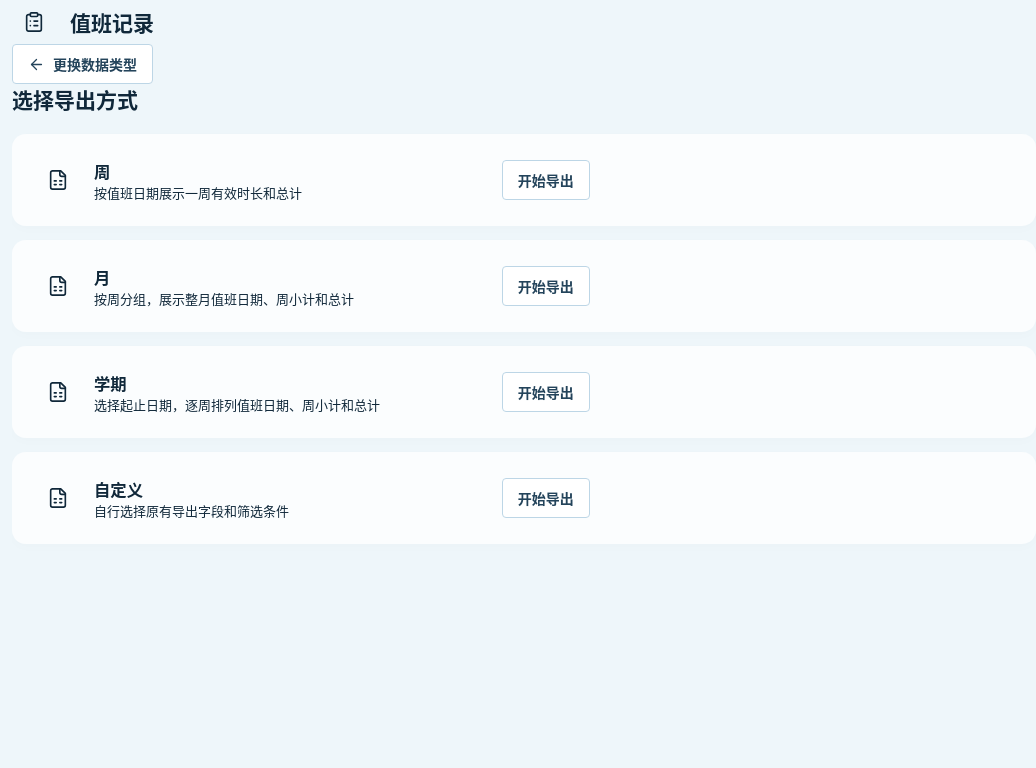
Test: attendance template workspace › clears obsolete results after a server revision conflict
Click the button in the row of "按值班日期展示一周有效时长和总计" at [546, 180], box [502,160,590,200]
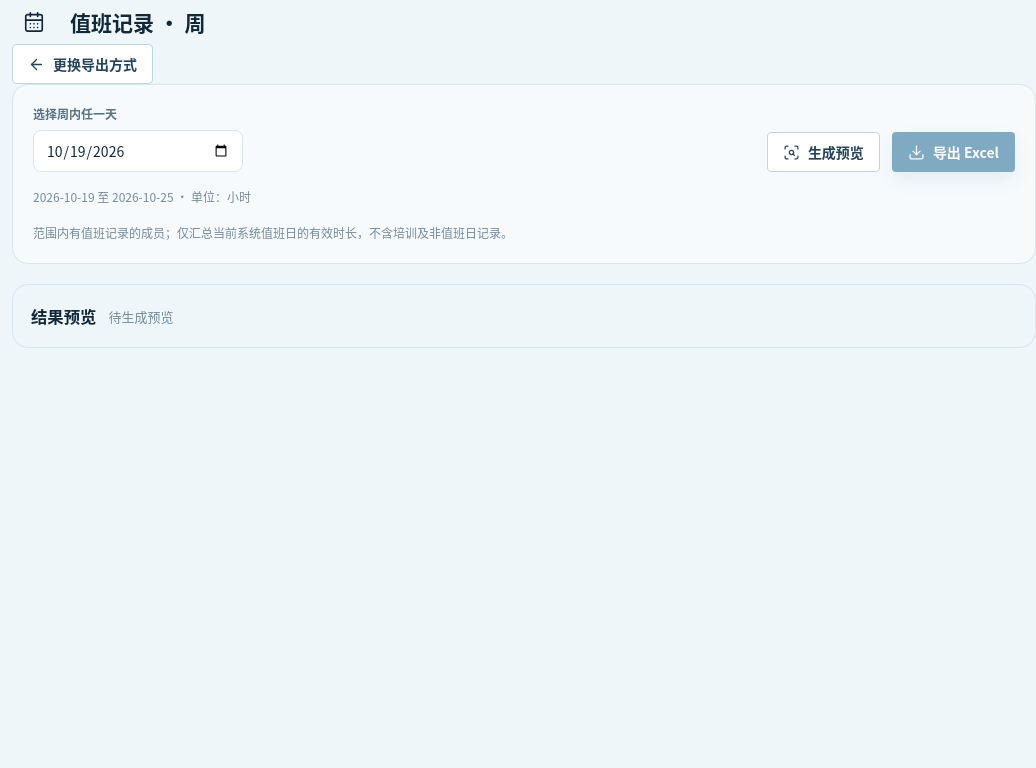
Submit the form, box [12,84,1035,264]
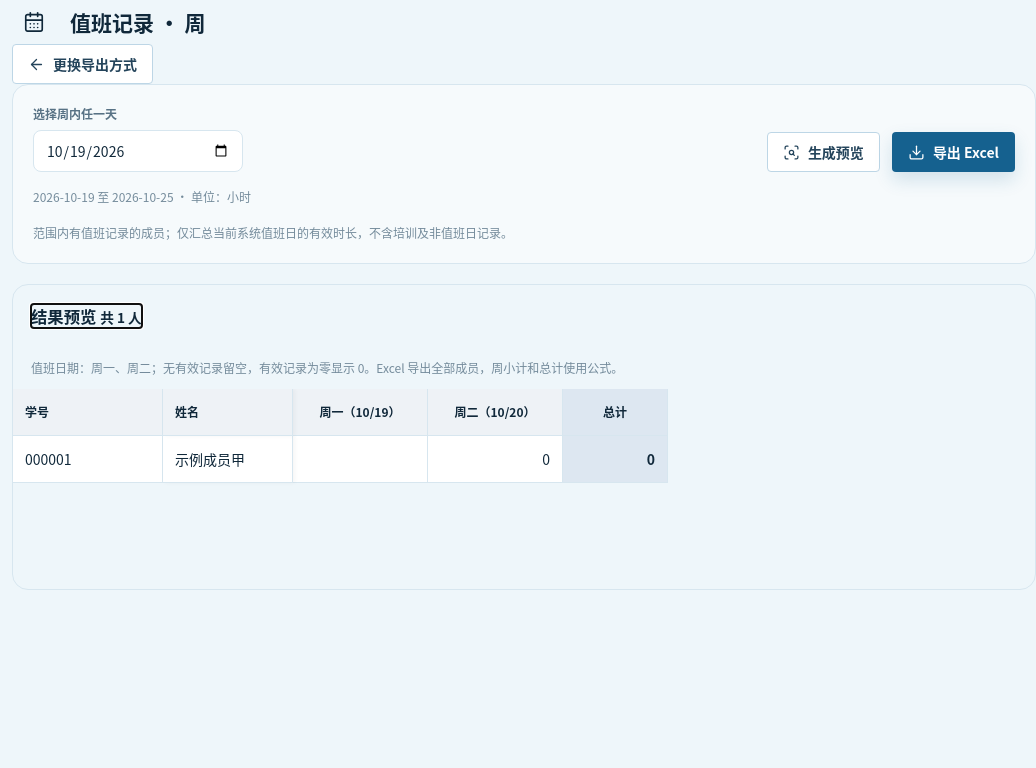
Click the button "导出 Excel" at [953, 152], box [892,132,1015,172]
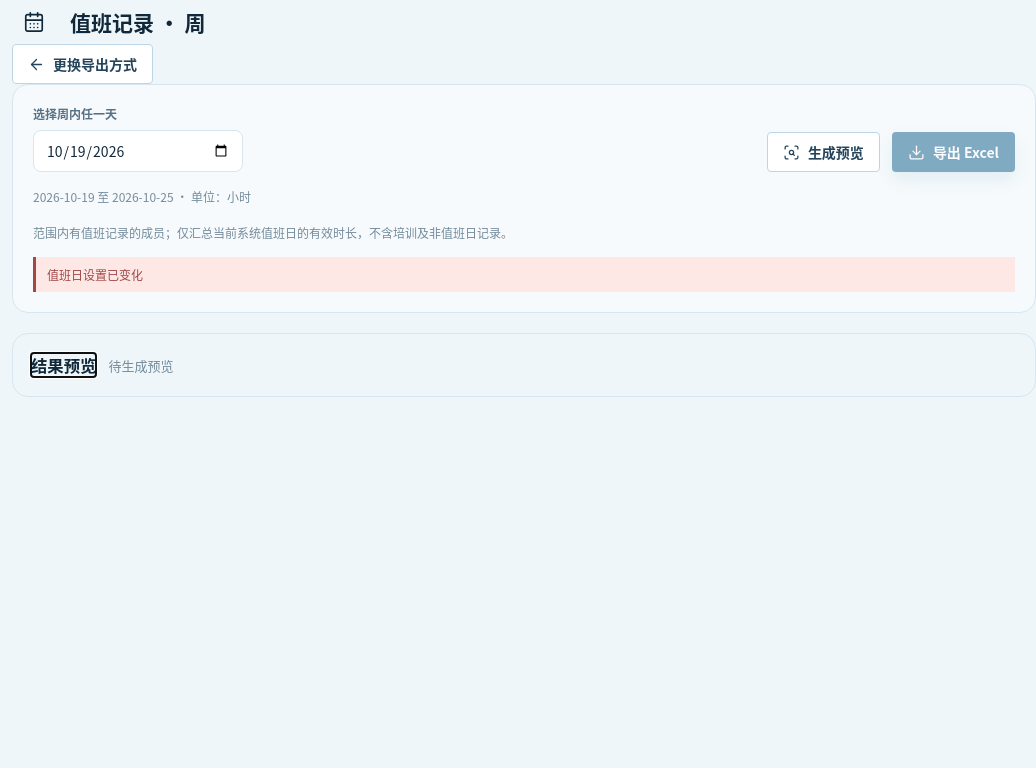
Now the message "值班日设置已变化" is shown, box [33,257,1015,292]
